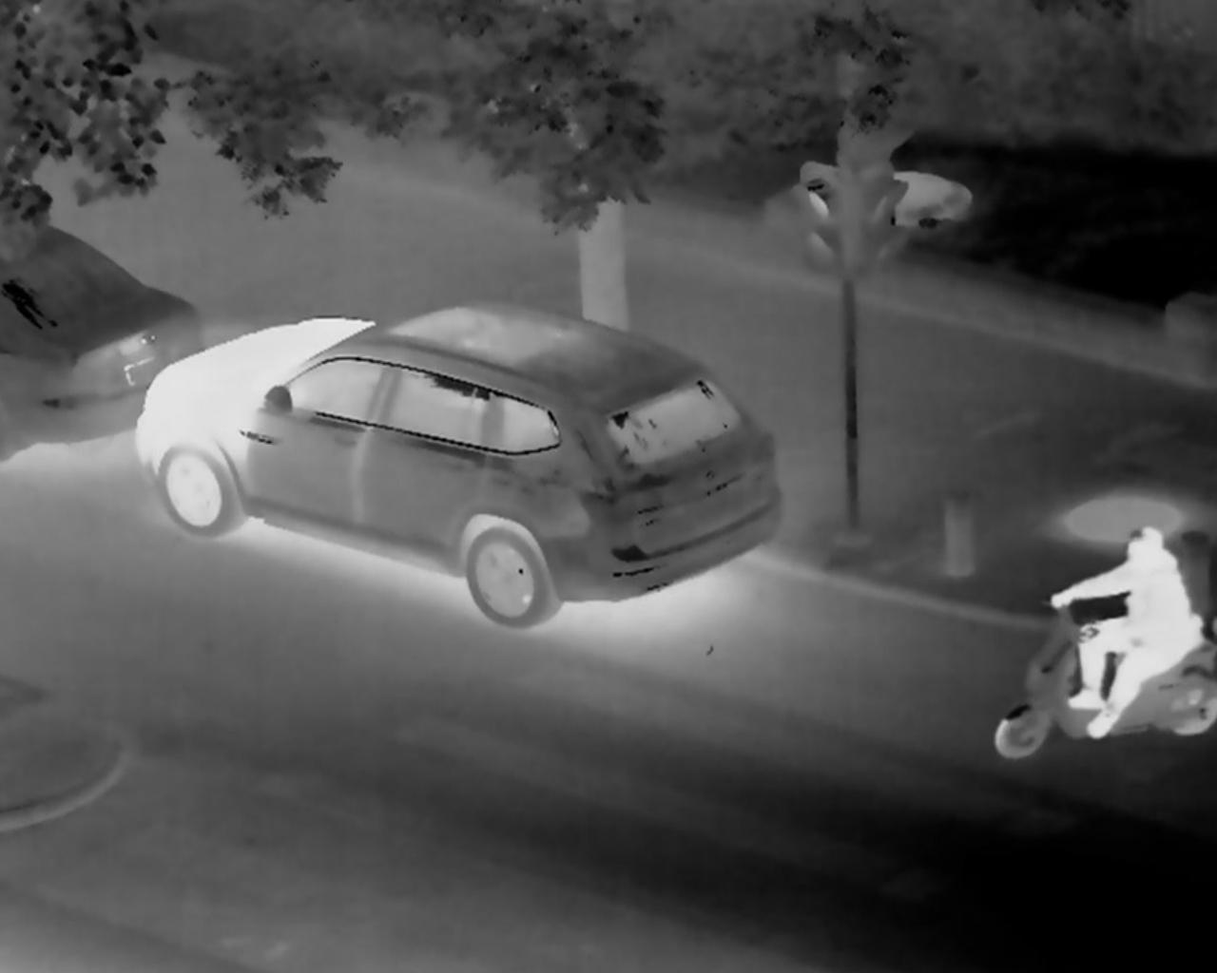person: (1044, 515, 1207, 746)
